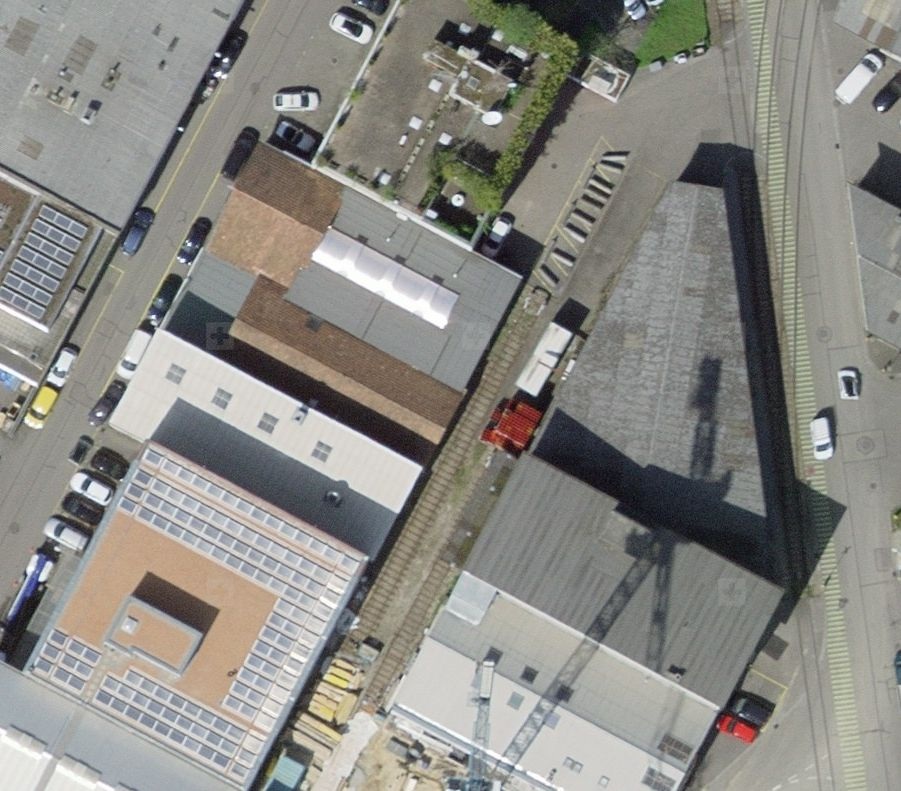solar: (24, 442, 363, 789), (1, 203, 88, 320)
